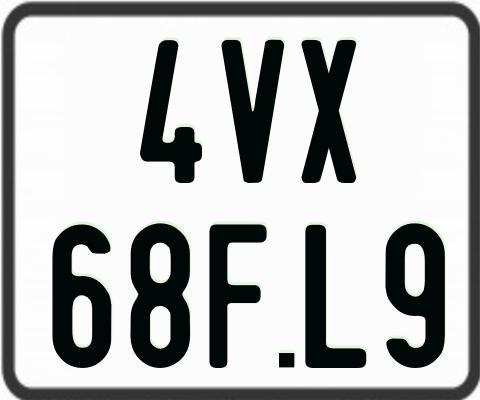4: (138, 39, 203, 185)
6: (51, 222, 110, 372)
8: (128, 221, 188, 366)
9: (384, 221, 449, 369)
F: (208, 221, 269, 369)
L: (302, 223, 369, 367)
V: (221, 40, 285, 185)
X: (300, 37, 358, 183)
